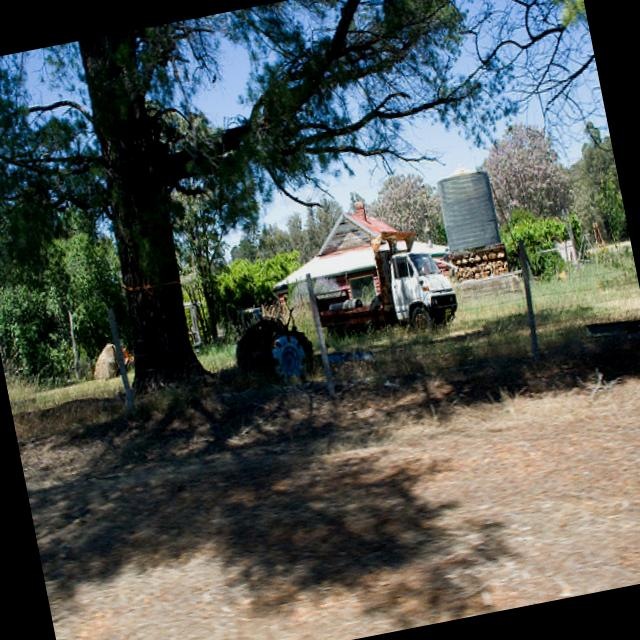Vehicle: (302, 219, 468, 365)
